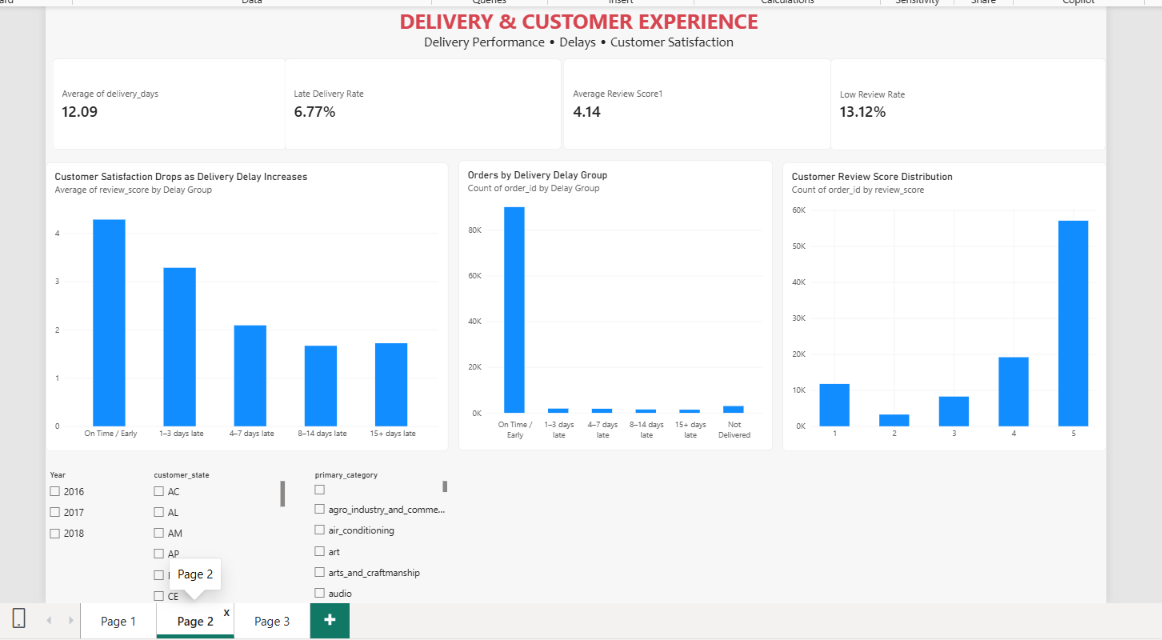

The page's visual inventory and layout, read from the dashboard file:
{"tool":"powerbi","page":{"name":"Page 2","canvas":[1920,1080],"ordinal":1},"visuals":[{"type":"textbox","box":[9.4,0,1911.1,94.3],"z":0},{"type":"clusteredColumnChart","title":"Customer Satisfaction Drops as Delivery Delay Increases","fields":{"Category":["olist_powerbi_master.Delay Group"],"Y":["Avg(olist_powerbi_master.review_score)"]},"box":[0,281.4,728.5,522.7],"z":1},{"type":"clusteredColumnChart","title":"Orders by Delivery Delay Group","fields":{"Category":["olist_powerbi_master.Delay Group"],"Y":["CountNonNull(olist_powerbi_master.order_id)"]},"box":[747.4,279.1,567.6,525.1],"z":2},{"type":"clusteredColumnChart","title":"Customer Review Score Distribution","fields":{"Category":["olist_powerbi_master.review_score"],"Y":["CountNonNull(olist_powerbi_master.order_id)"]},"box":[1333.9,281.4,586.6,522.7],"z":3},{"type":"slicer","fields":{"Values":["olist_powerbi_master.order_purchase_timestamp.Variation.Date Hierarchy.Year"]},"box":[0,839.6,175,238.9],"z":4},{"type":"slicer","fields":{"Values":["olist_powerbi_master.customer_state"]},"box":[188.5,838.9,245.1,240.4],"z":5},{"type":"slicer","fields":{"Values":["olist_powerbi_master.primary_category"]},"box":[480.1,839.6,247.4,240.4],"z":6},{"type":"cardVisual","fields":{"Data":["Avg(olist_powerbi_master.delivery_days)"]},"box":[11.8,94.6,423.4,165.6],"z":7},{"type":"cardVisual","fields":{"Data":["olist_powerbi_master.Late Delivery Rate"]},"box":[432.8,94.6,501.4,165.6],"z":8},{"type":"cardVisual","fields":{"Data":["olist_powerbi_master.Average Review Score1"]},"box":[936.6,94.6,484.9,165.6],"z":9},{"type":"cardVisual","fields":{"Data":["olist_powerbi_master.Low Review Rate"]},"box":[1421.4,94.6,498,166],"z":10}]}

Visuals, with their boxes on the page's 1920x1080 design canvas (x1, y1, x2, y2). These are canvas units, not pixel positions in the 1162x640 screenshot, which may show the page scaled, cropped or inside an application window:
textbox: <bbox>9, 0, 1920, 94</bbox>
"Customer Satisfaction Drops as Delivery Delay Increases" clusteredColumnChart: <bbox>0, 281, 728, 804</bbox>
"Orders by Delivery Delay Group" clusteredColumnChart: <bbox>747, 279, 1315, 804</bbox>
"Customer Review Score Distribution" clusteredColumnChart: <bbox>1334, 281, 1920, 804</bbox>
slicer - olist_powerbi_master.order_purchase_timestamp.Variation.Date Hierarchy.Year: <bbox>0, 840, 175, 1078</bbox>
slicer - olist_powerbi_master.customer_state: <bbox>188, 839, 434, 1079</bbox>
slicer - olist_powerbi_master.primary_category: <bbox>480, 840, 728, 1080</bbox>
cardVisual - Avg(olist_powerbi_master.delivery_days): <bbox>12, 95, 435, 260</bbox>
cardVisual - olist_powerbi_master.Late Delivery Rate: <bbox>433, 95, 934, 260</bbox>
cardVisual - olist_powerbi_master.Average Review Score1: <bbox>937, 95, 1422, 260</bbox>
cardVisual - olist_powerbi_master.Low Review Rate: <bbox>1421, 95, 1919, 261</bbox>
